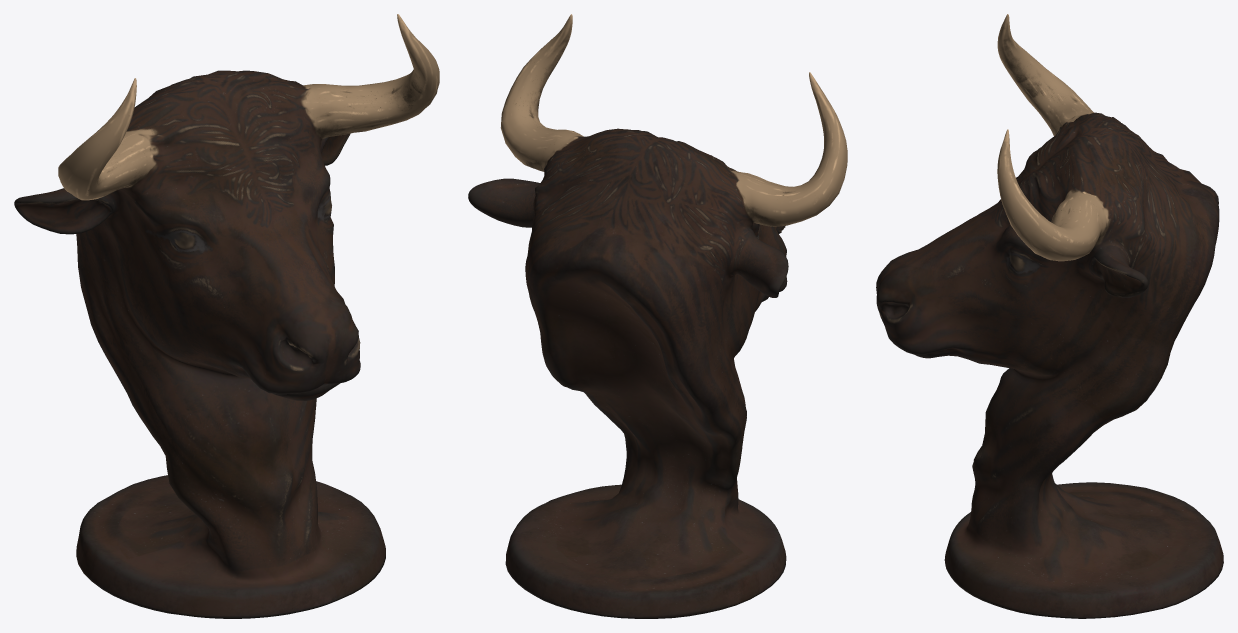
File: bull_head_4k.gltf
3 renders of one model, left to right at view 1: azimuth 30°, elevation 25°; view 2: azimuth 150°, elevation 25°; view 3: azimuth 270°, elevation 25°, orthographic. The views are drawn at different scales.
Visible parts, largest first — view 1: bull_head; view 2: bull_head; view 3: bull_head.
Boxes of the visible parts, left/top/right/bottom form: bull_head: left=14, top=14, right=439, bottom=618; bull_head: left=468, top=14, right=847, bottom=618; bull_head: left=876, top=14, right=1223, bottom=618.
Size of the model in its own units: 0.3064 by 0.433 by 0.2807.
1 material, 1 textured.
